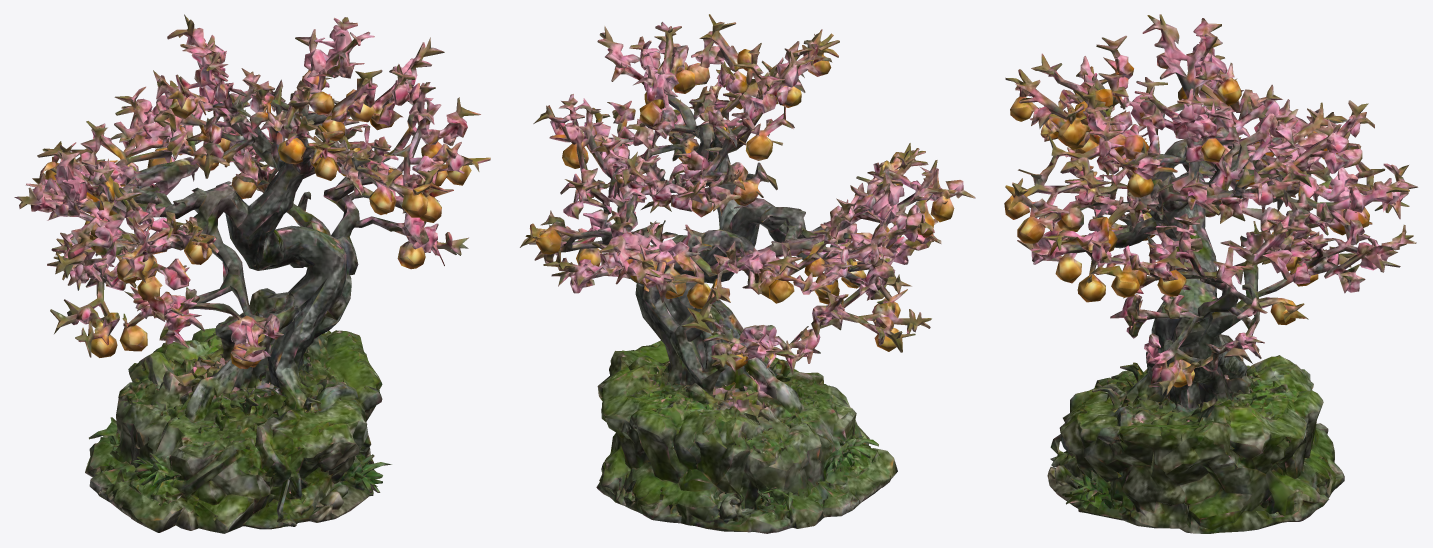
Rendered from peach-tree.glb.
The picture shows the model from 3 angles, left to right: view 1: azimuth 30°, elevation 25°; view 2: azimuth 150°, elevation 25°; view 3: azimuth 270°, elevation 25°; orthographic projection. The views are drawn at different scales.
Parts seen in each view (by area): view 1: geometry_0; view 2: geometry_0; view 3: geometry_0.
Part boxes in pixels (x1,y1,x2,y2): geometry_0: (14,14,490,533); geometry_0: (520,14,975,533); geometry_0: (1004,14,1417,533).
Size of the model in its own units: 0.77 by 0.75 by 0.6358.
1 material, 1 textured.
